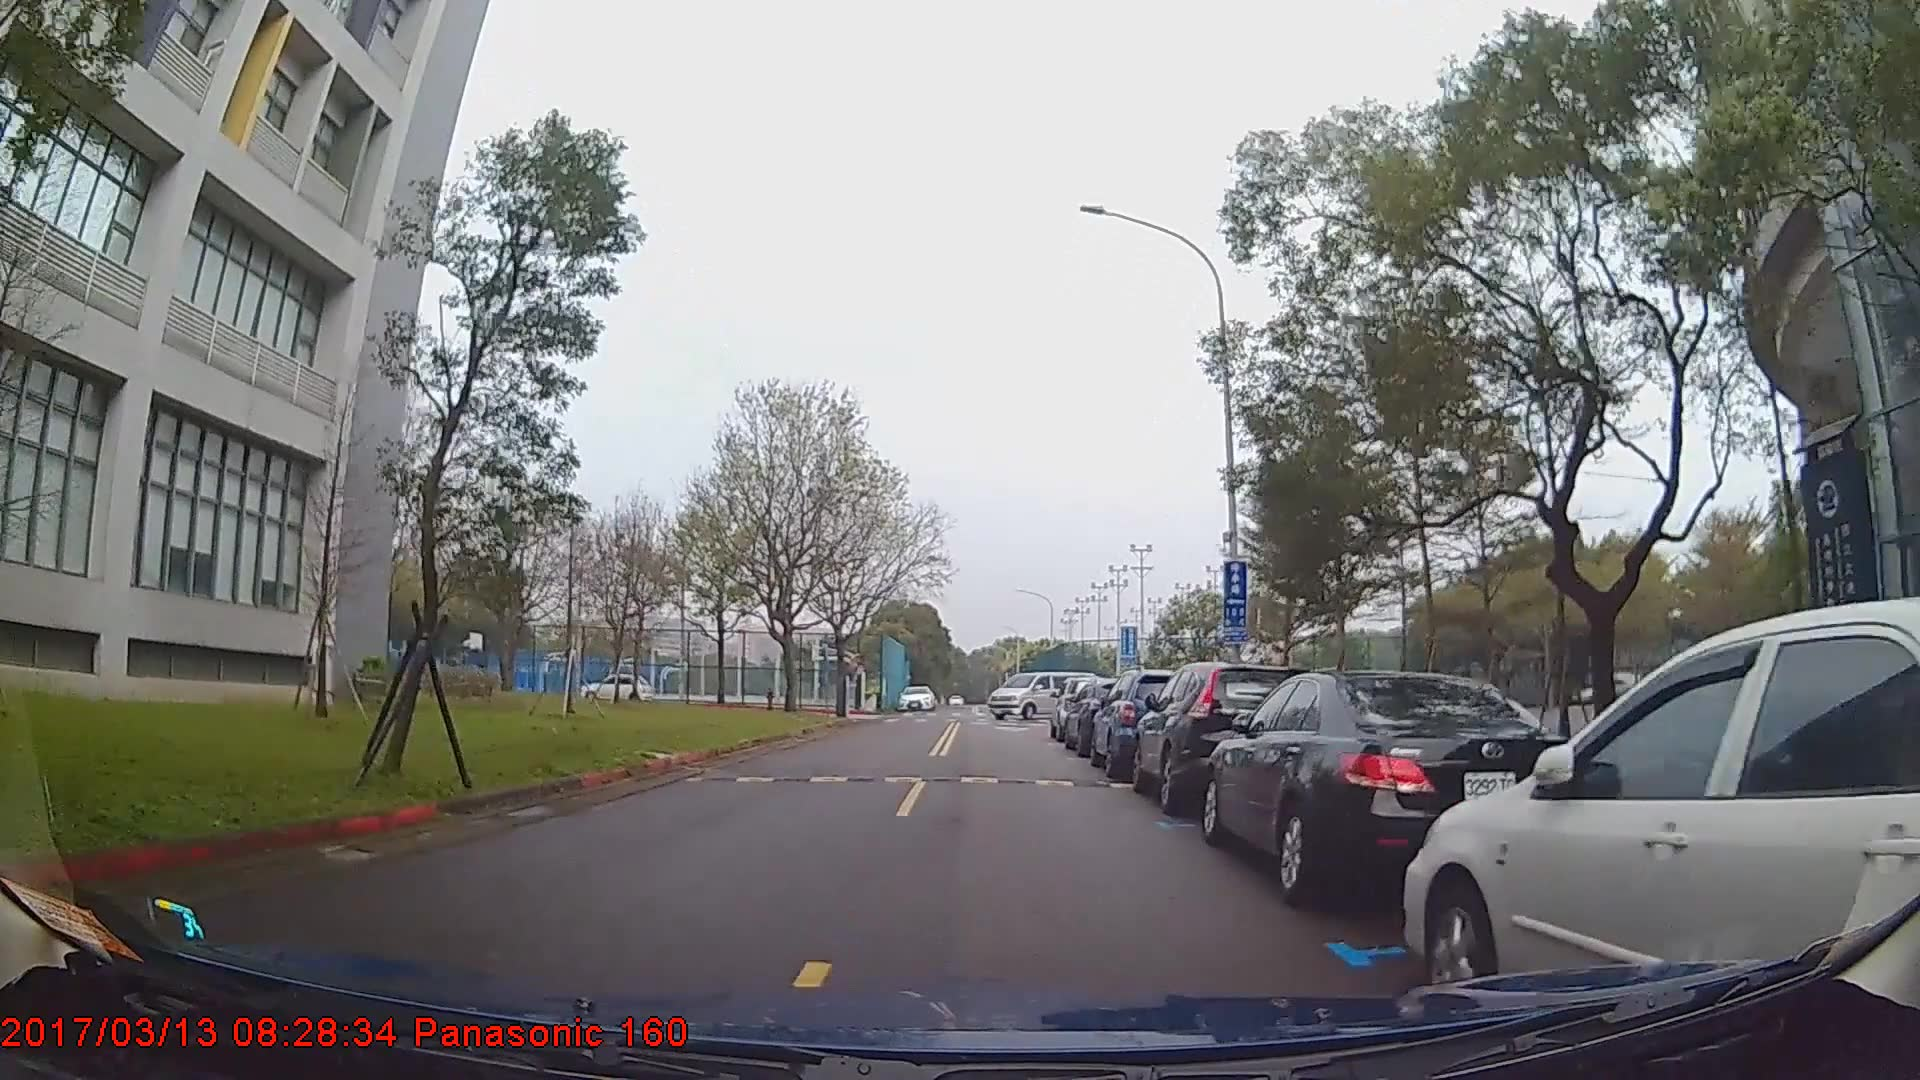vehicle: (1400, 593, 1920, 1025), (1203, 669, 1586, 906), (1129, 659, 1317, 814), (1091, 667, 1196, 779), (988, 669, 1097, 720), (578, 670, 653, 702), (895, 682, 938, 709)
